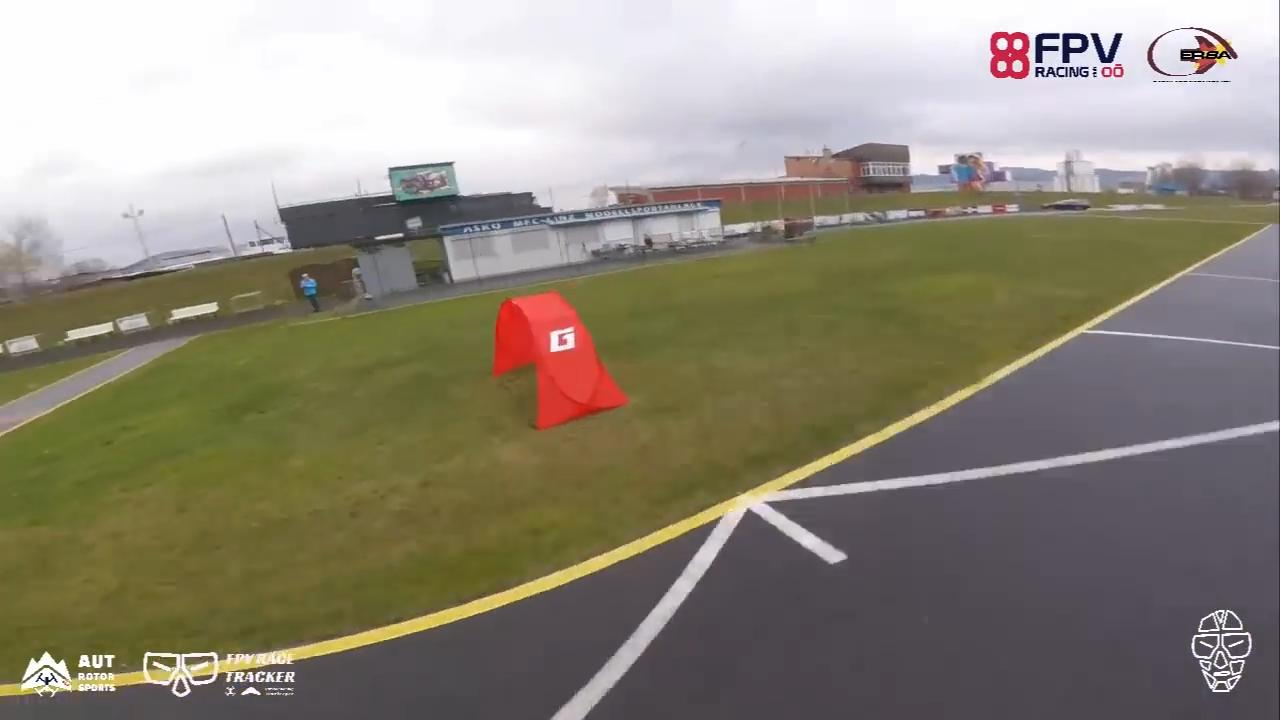gate: (489, 290, 629, 432)
